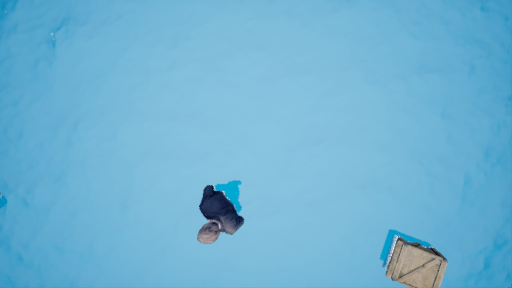person: (174, 176, 255, 244)
